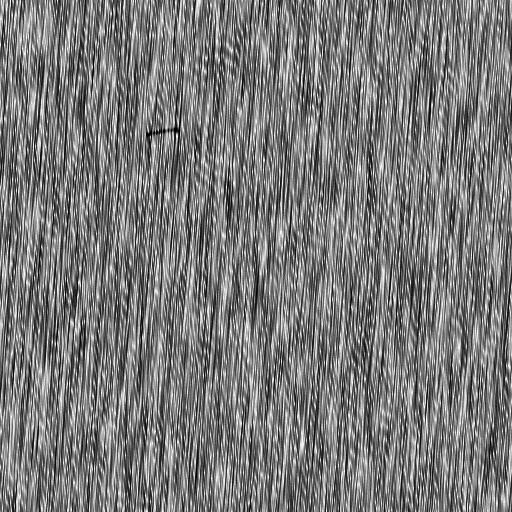DefectTypeC: (145, 127, 182, 140)
